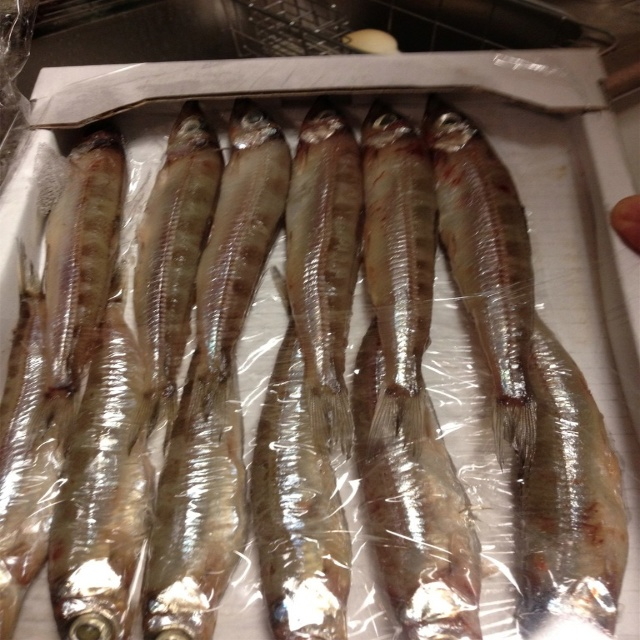Fish: (0, 88, 630, 639)
